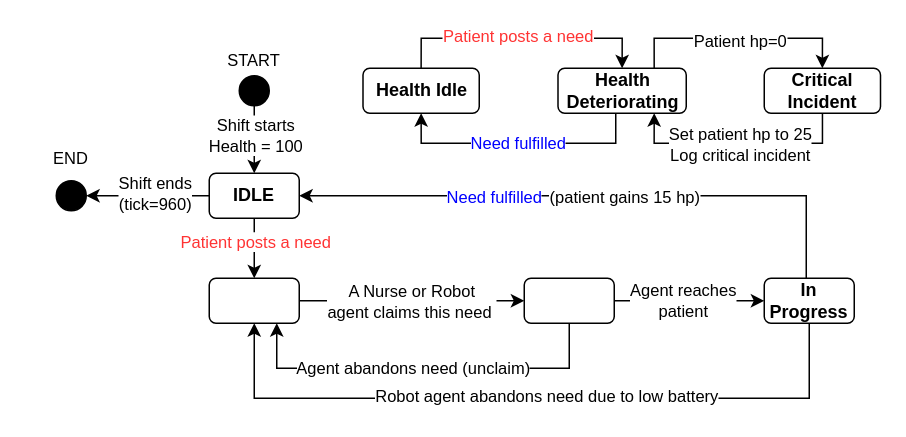
This 906x437 diagram has some shape labels left out. The shapes that lost their labels are listed below. From the top down, each one's centre as x and y in pixels, then its label:
(x=253, y=300): In Need
(x=568, y=300): Claimed
